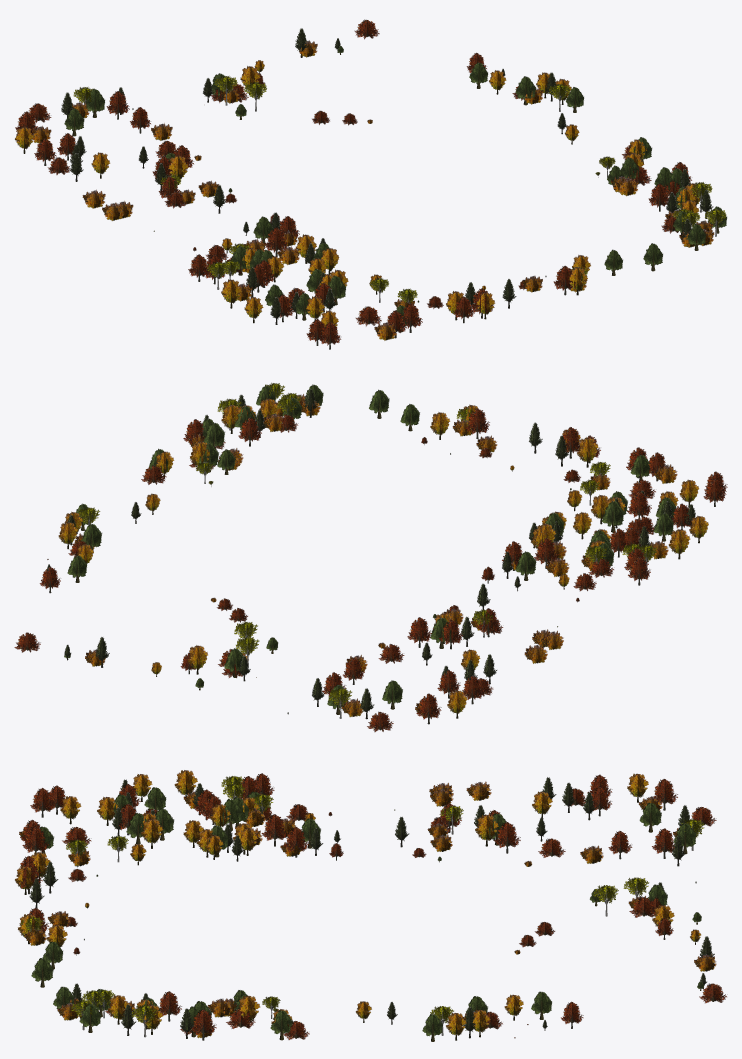
The model's file is treeMap.glb.
3 views of the same model, one above another, from view 1: azimuth 30°, elevation 25°; view 2: azimuth 150°, elevation 25°; view 3: azimuth 270°, elevation 25° (orthographic). The views are drawn at different scales.
Visible parts, largest first — view 1: no part large enough to name; view 2: no part large enough to name; view 3: tree28.015, tree28.017, tree28.019, tree28.031, tree32.012.
Boxes of the visible parts, x1,y1,x2,y2 form: tree28.015: (261,814,288,846); tree28.017: (494,822,520,853); tree28.019: (22,826,49,852); tree28.031: (190,1009,216,1040); tree32.012: (475,814,498,846).
Bounding box in the file's own units: 208 × 16.53 × 250.
Materials: 7 (7 with a texture image).
